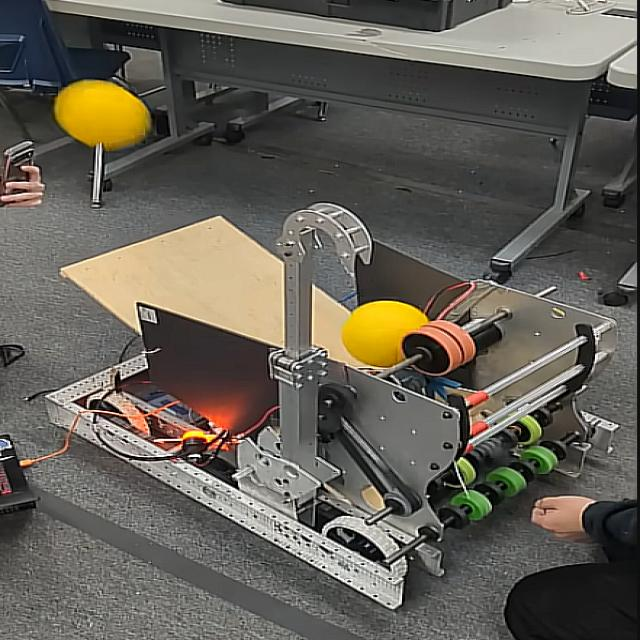Fuel: (52, 81, 152, 151), (54, 79, 150, 150), (340, 301, 429, 368), (342, 300, 428, 367)
